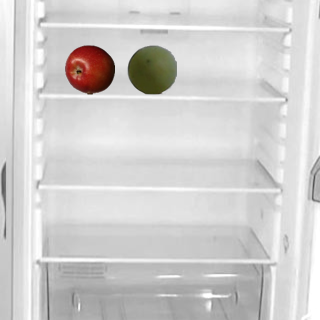Apple Braeburn: (64, 44, 114, 94)
Grape White 4: (126, 44, 176, 94)
